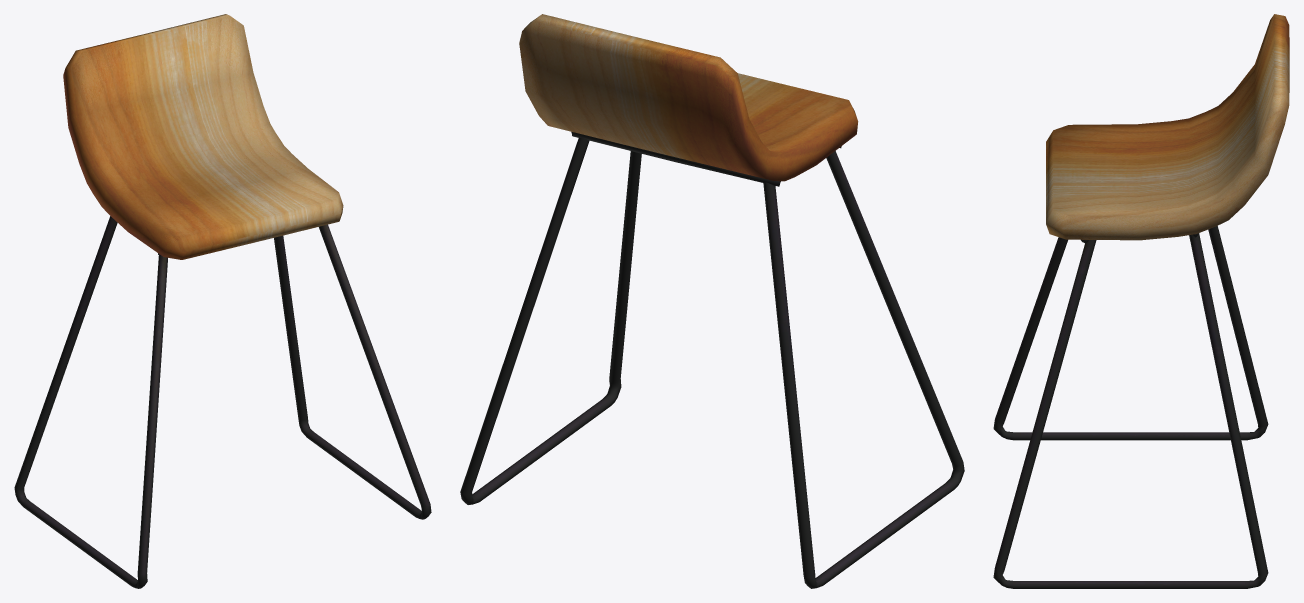
File: SM_Lounge_Chair.FBX
3 renders of one model, left to right at view 1: azimuth 30°, elevation 25°; view 2: azimuth 150°, elevation 25°; view 3: azimuth 270°, elevation 25°, orthographic. The views are drawn at different scales.
Parts seen in each view (by area): view 1: SM_Lounge_Chair; view 2: SM_Lounge_Chair; view 3: SM_Lounge_Chair.
Part boxes in pixels (x1,y1,x2,y2): SM_Lounge_Chair: (14, 14, 431, 588); SM_Lounge_Chair: (460, 14, 964, 588); SM_Lounge_Chair: (993, 14, 1289, 588).
Size of the model in its own units: 70.37 by 57.73 by 99.43.
